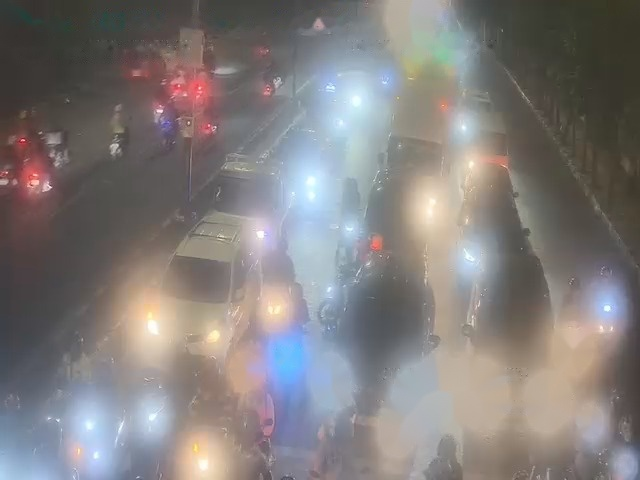Mobil: (147, 212, 248, 348), (472, 261, 558, 398), (350, 256, 421, 407), (452, 205, 538, 275), (274, 122, 320, 198), (79, 380, 116, 464), (462, 111, 515, 166), (461, 154, 516, 203), (27, 419, 70, 480), (303, 77, 351, 131), (329, 58, 371, 114), (37, 369, 76, 417), (459, 81, 494, 128), (156, 112, 178, 148)
Motor: (259, 243, 298, 328), (134, 374, 170, 444), (235, 419, 276, 480), (184, 406, 219, 476), (338, 180, 359, 244), (567, 279, 584, 355), (598, 257, 614, 332), (324, 263, 343, 317), (29, 150, 48, 198), (110, 106, 128, 156), (18, 108, 37, 146), (51, 123, 69, 162), (5, 149, 19, 191)
Truk: (388, 84, 449, 207), (216, 149, 289, 243)
